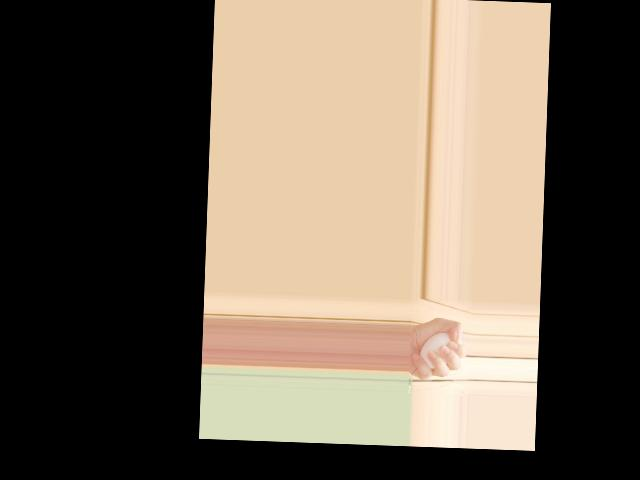egg: (419, 331, 454, 370)
